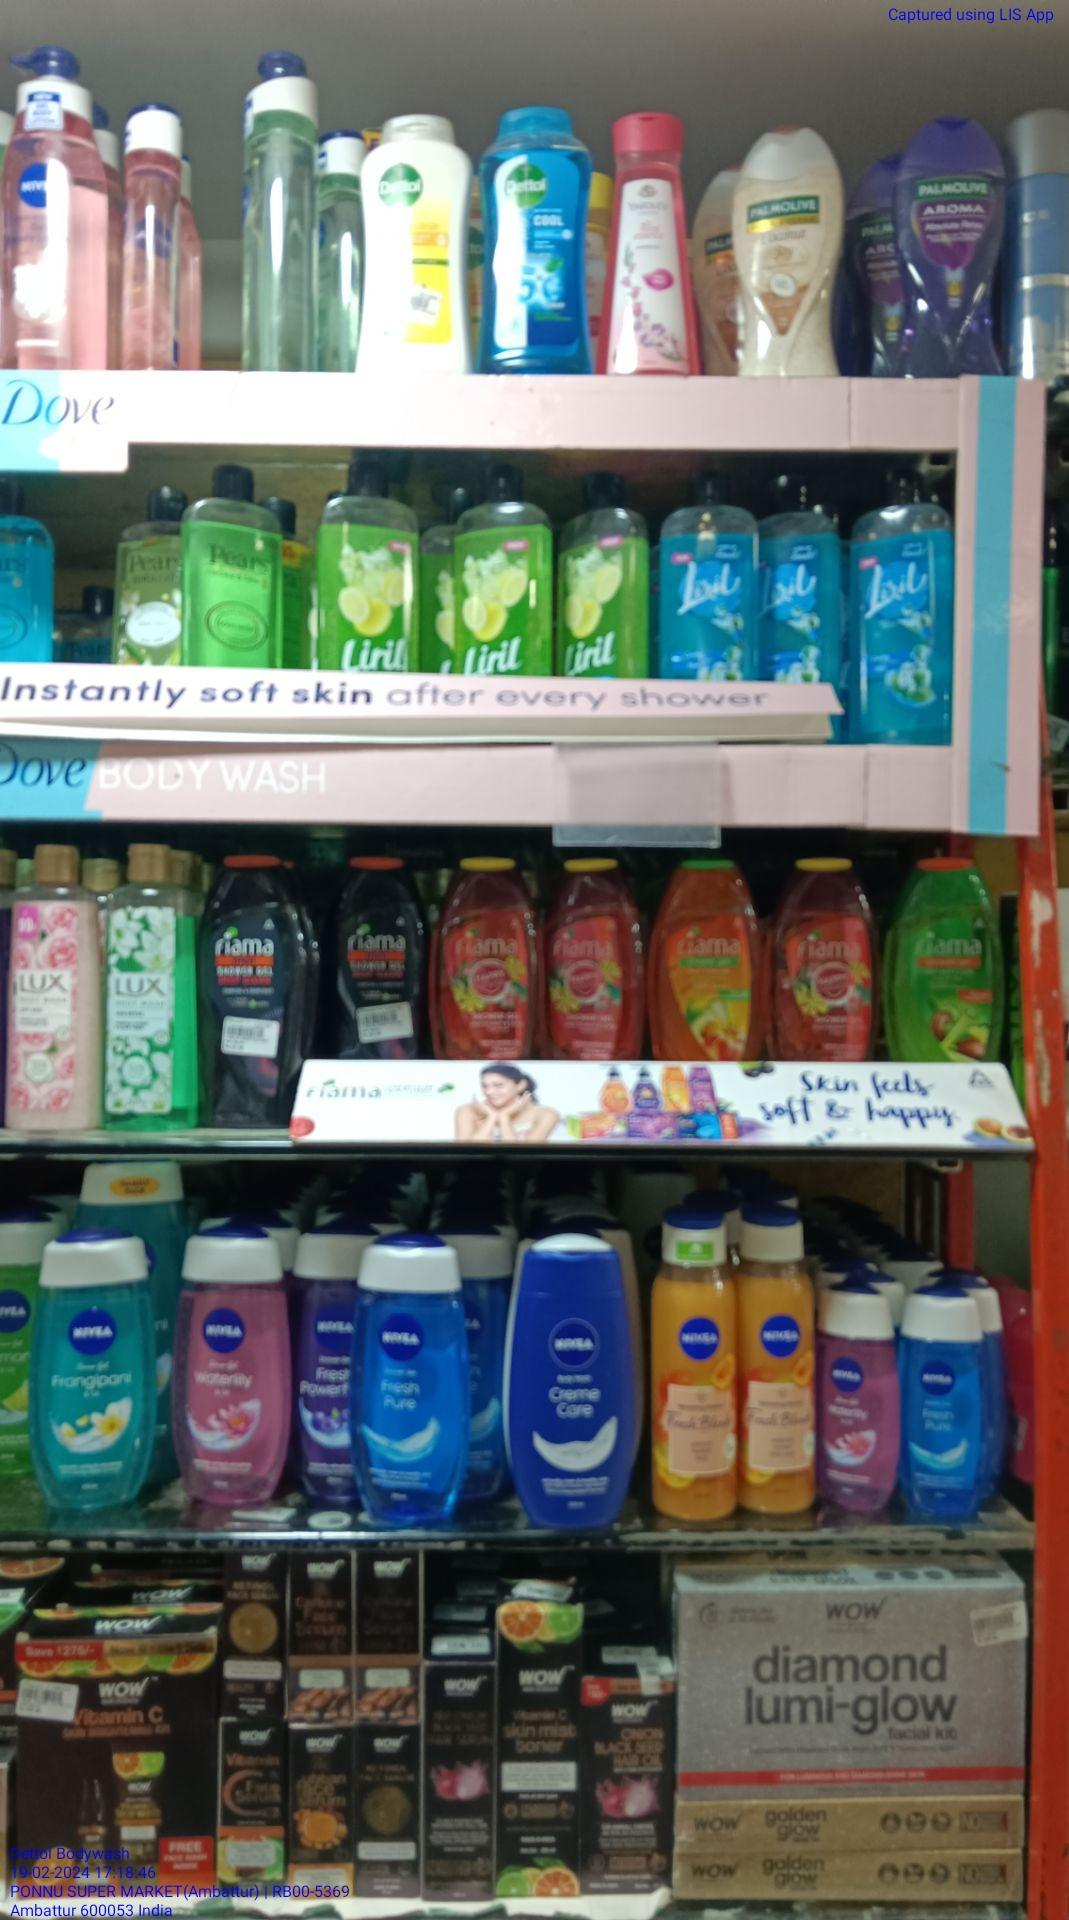Dettol_Bodywash_Cool: (474, 105, 596, 374)
Dettol_Nourish_Body_Wash_250ML: (352, 111, 470, 374)
Fiama_Shower_Gel_Peach_and_Avocado_250ML: (652, 849, 765, 1059)
Liril_Cooling_Mint_Body_Wash_250ML: (844, 468, 952, 742), (654, 468, 758, 682), (757, 474, 847, 682)
Liril_Lime_and_Tea_Tree_Oil_Body_Wash_250ML: (312, 461, 421, 672), (450, 465, 553, 678), (553, 468, 650, 679)
Lux_Body_Wash_Skin_Detox_Freesia_Scent_and_Alove_Vera_245ML: (99, 840, 194, 1129)
Nivea_Creme_Care_Body_Wash_250ML: (506, 1229, 644, 1530)
Nivea_Shower_Gel_Frangipani_and_Oil_250ML: (25, 1219, 155, 1520)
Nivea_Shower_Gel_Waterlily_and_Oil_250ML: (174, 1223, 296, 1519)
Palmolive_Aroma_Relax_250ML: (886, 111, 1014, 376)
Palmolive_Coconut_Joy_Exfoliating_Body_Wash_250ML: (727, 117, 847, 379)
Pears_Pure_Glycerin_and_Lemon_Flower_Extracts_Body_Wash_250ML: (179, 459, 284, 671)
